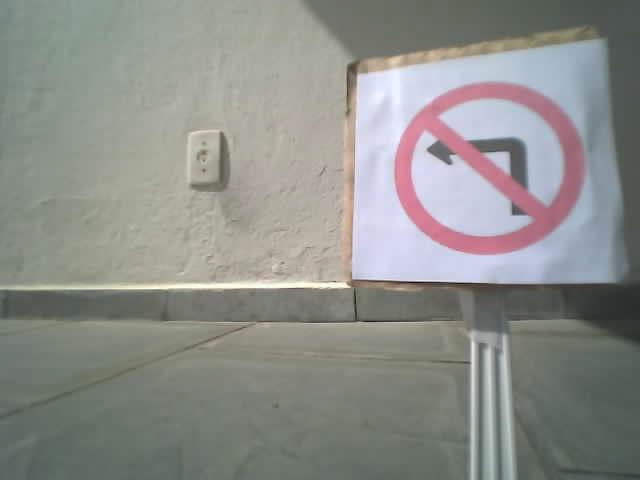R-4a_proibido-esquerda: (393, 79, 584, 254)
